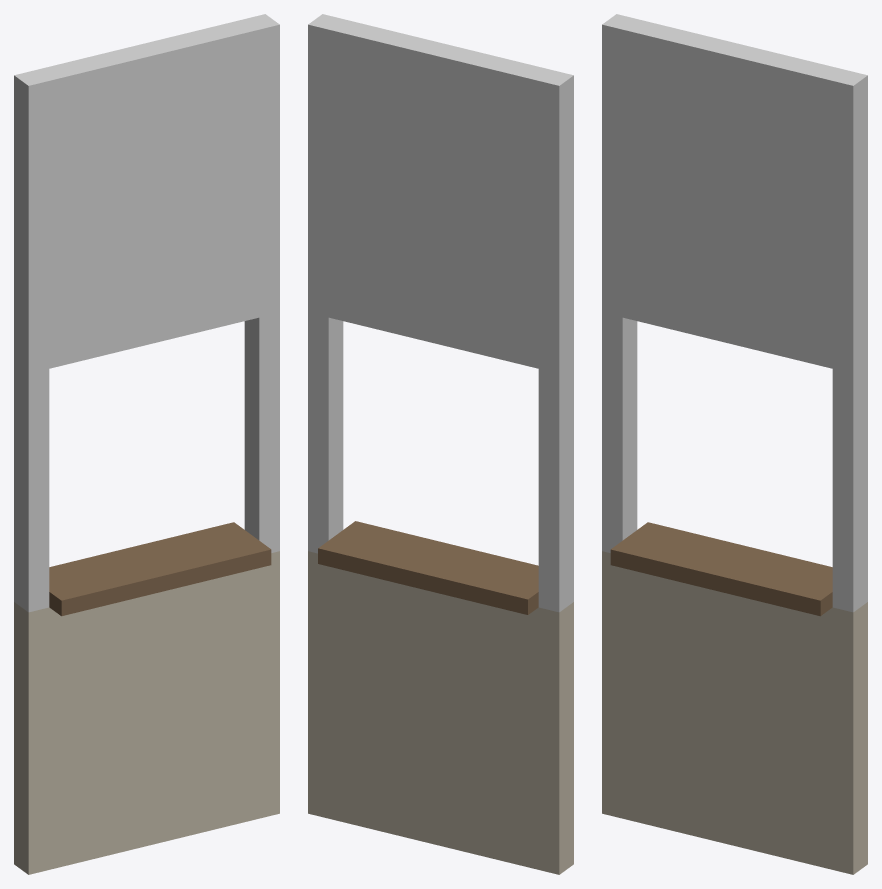
File: Mesh_Wall2Colors_B2.fbx
3 views of the same model, side by side, from view 1: azimuth 30°, elevation 25°; view 2: azimuth 150°, elevation 25°; view 3: azimuth 330°, elevation 25° (orthographic).
Visible parts, largest first — view 1: Mesh_Wall2Colors_B2; view 2: Mesh_Wall2Colors_B2; view 3: Mesh_Wall2Colors_B2.
Boxes of the visible parts, left/top/right/bottom form: Mesh_Wall2Colors_B2: left=14, top=14, right=279, bottom=874; Mesh_Wall2Colors_B2: left=308, top=14, right=573, bottom=874; Mesh_Wall2Colors_B2: left=602, top=14, right=867, bottom=874.
Bounding box in the file's own units: 1 × 3 × 0.2574.
